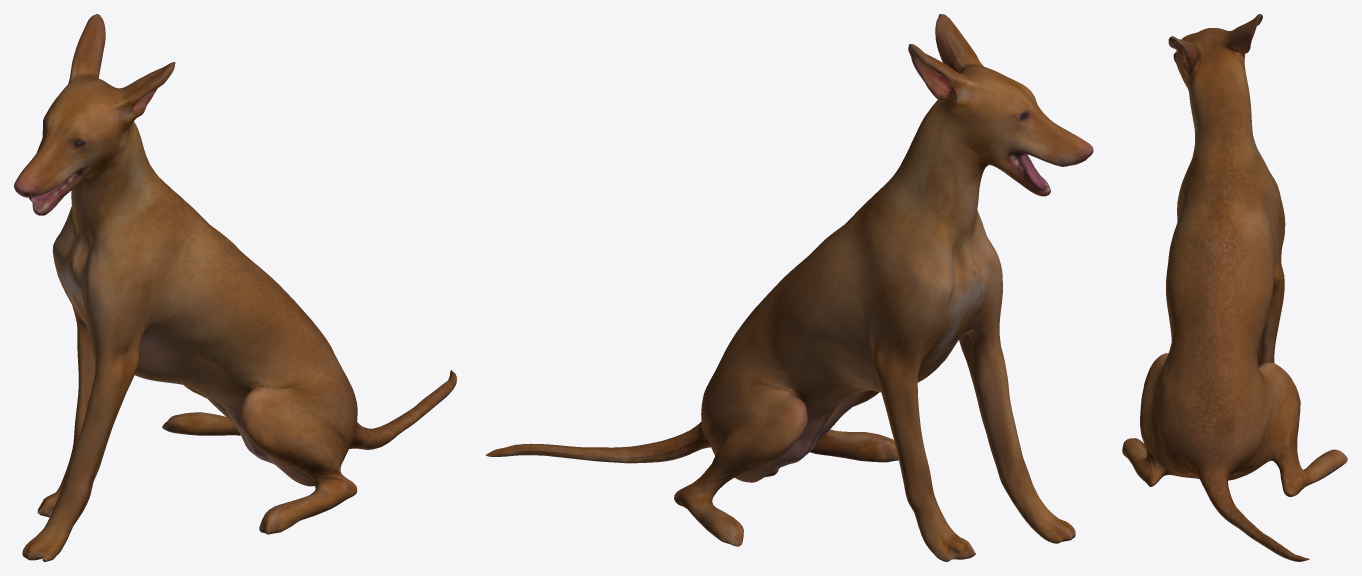
File: dog.glb
3 views of the same model, side by side, from view 1: azimuth 30°, elevation 25°; view 2: azimuth 150°, elevation 25°; view 3: azimuth 270°, elevation 25° (orthographic). The views are drawn at different scales.
Visible parts, largest first — view 1: FACESET_Pharaoh_Hound; view 2: FACESET_Pharaoh_Hound; view 3: FACESET_Pharaoh_Hound.
Boxes of the visible parts, <box> form: FACESET_Pharaoh_Hound: <box>14,14,456,561</box>; FACESET_Pharaoh_Hound: <box>485,14,1093,561</box>; FACESET_Pharaoh_Hound: <box>1122,14,1347,561</box>.
Size of the model in its own units: 1.08 by 0.9827 by 0.4988.
1 material, 1 textured.
